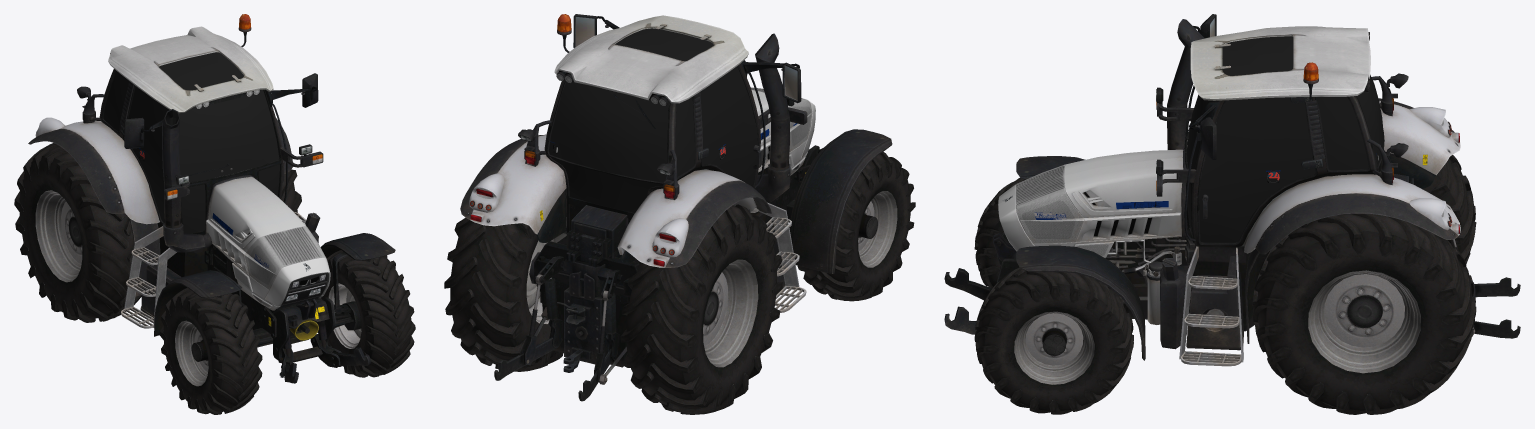
File: lamborghini_tractor.fbx
The picture shows the model from 3 angles, left to right: view 1: azimuth 30°, elevation 25°; view 2: azimuth 150°, elevation 25°; view 3: azimuth 270°, elevation 25°; orthographic projection. The views are drawn at different scales.
Parts seen in each view (by area): view 1: lamborghini_BODY, WHEEL_RR, WINDOW, WHEEL_RF, WHEEL_LF, SUSP_LF, SUSP_RF, LIGHT, WHEEL_LR, lamborghini; view 2: lamborghini_BODY, WHEEL_RR, WINDOW, WHEEL_LR, WHEEL_RF, SUSP_RF, MIRROR_L; view 3: lamborghini_BODY, WHEEL_LR, WHEEL_LF, WINDOW, SUSP_LF, WHEEL_RR, WHEEL_RF, SUSP_RF, lamborghini.
Part boxes in pixels (x1,y1,x2,y2): lamborghini_BODY: [28, 26, 371, 383]; WHEEL_RR: [14, 143, 141, 322]; WINDOW: [103, 52, 280, 233]; WHEEL_RF: [159, 287, 262, 414]; WHEEL_LF: [321, 250, 415, 377]; SUSP_LF: [320, 233, 395, 330]; SUSP_RF: [154, 270, 241, 336]; LIGHT: [167, 90, 325, 300]; WHEEL_LR: [280, 169, 302, 220]; lamborghini: [139, 148, 324, 326]; lamborghini_BODY: [460, 14, 819, 401]; WHEEL_RR: [620, 204, 783, 414]; WINDOW: [549, 28, 757, 212]; WHEEL_LR: [444, 188, 566, 371]; WHEEL_RF: [797, 151, 915, 301]; SUSP_RF: [789, 129, 892, 273]; MIRROR_L: [575, 17, 594, 46]; lamborghini_BODY: [944, 14, 1520, 366]; WHEEL_LR: [1252, 213, 1476, 414]; WHEEL_LF: [974, 267, 1133, 414]; WINDOW: [1187, 36, 1384, 242]; SUSP_LF: [1016, 245, 1145, 360]; WHEEL_RR: [1423, 155, 1476, 263]; WHEEL_RF: [974, 177, 1024, 288]; SUSP_RF: [1016, 156, 1085, 179]; lamborghini: [1002, 153, 1427, 219].
Size of the model in its own units: 2.53 by 3.3 by 5.07.
7 materials, 7 textured.
